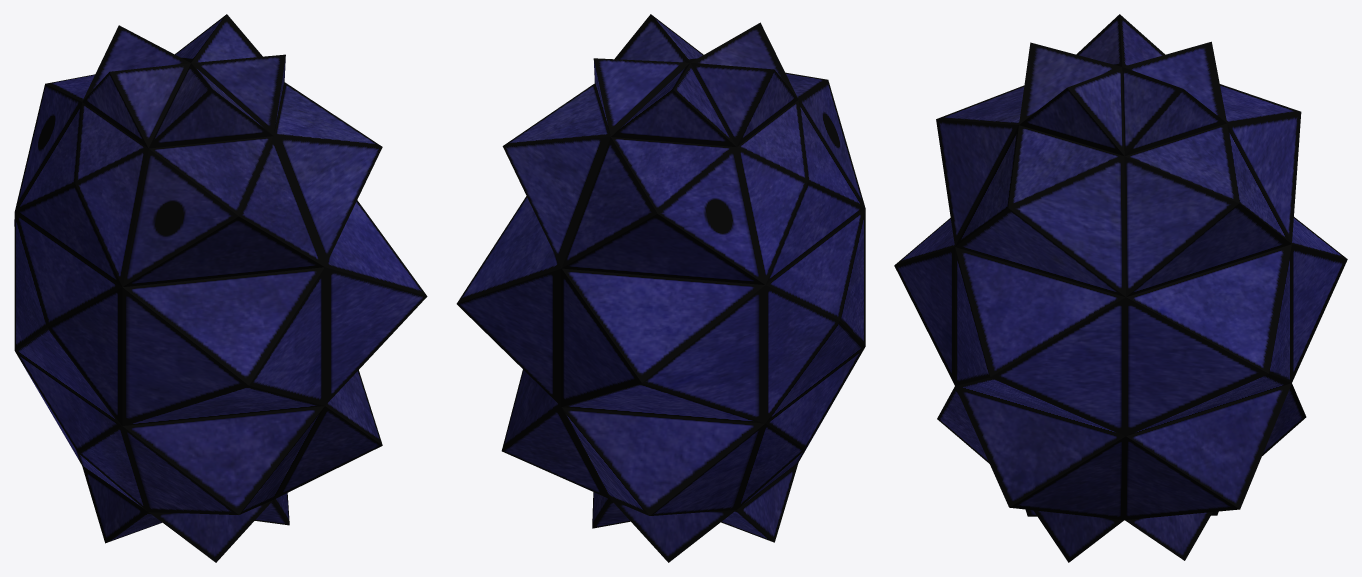
The model's file is Geode.fbx.
The picture shows the model from 3 angles, left to right: view 1: azimuth 30°, elevation 25°; view 2: azimuth 150°, elevation 25°; view 3: azimuth 270°, elevation 25°; orthographic projection.
Parts seen in each view (by area): view 1: polymsh; view 2: polymsh; view 3: polymsh.
Boxes of the visible parts, bbox=[...] form: polymsh: bbox=[14, 14, 427, 562]; polymsh: bbox=[456, 14, 865, 562]; polymsh: bbox=[894, 14, 1347, 562].
Bounding box in the file's own units: 8.96 × 12.79 × 11.09.
Materials: 1 (1 with a texture image).
